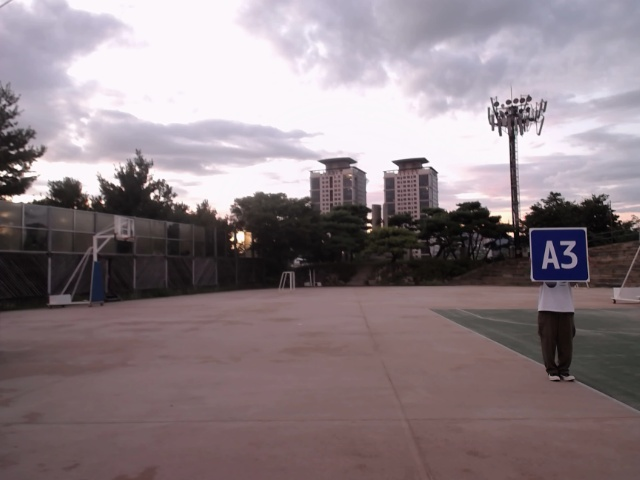delivery_a3: (530, 229, 590, 282)
